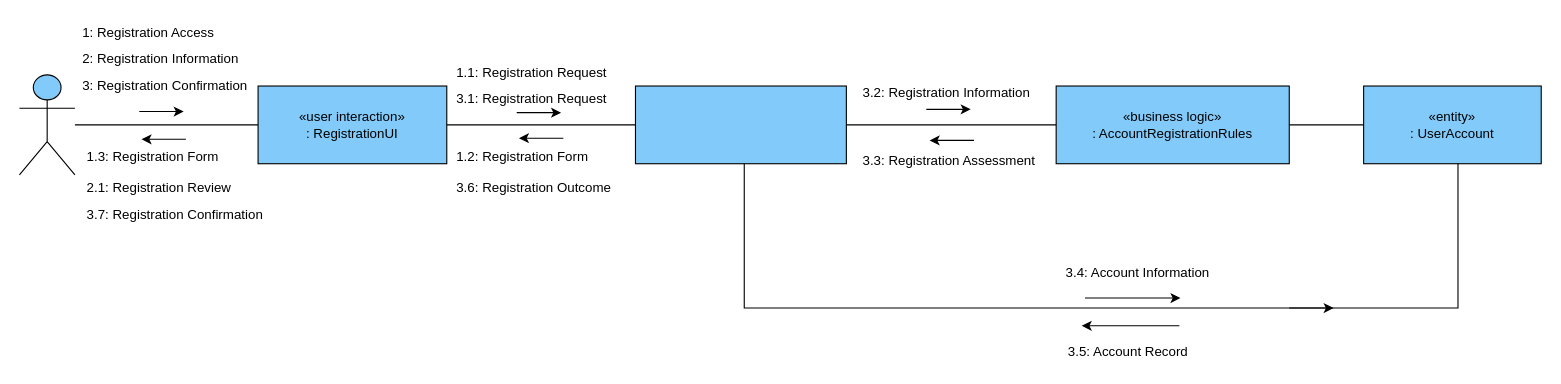
Image size: 1561x384. Some labels were removed from this diagram. The shapes that lost their labels are listed below. From the top down, each one's centre as x and y in pixels, then its label:
At (46,124): "Visitor".
At (740,124): "«coordinator» : RegistrationCoordinator".
